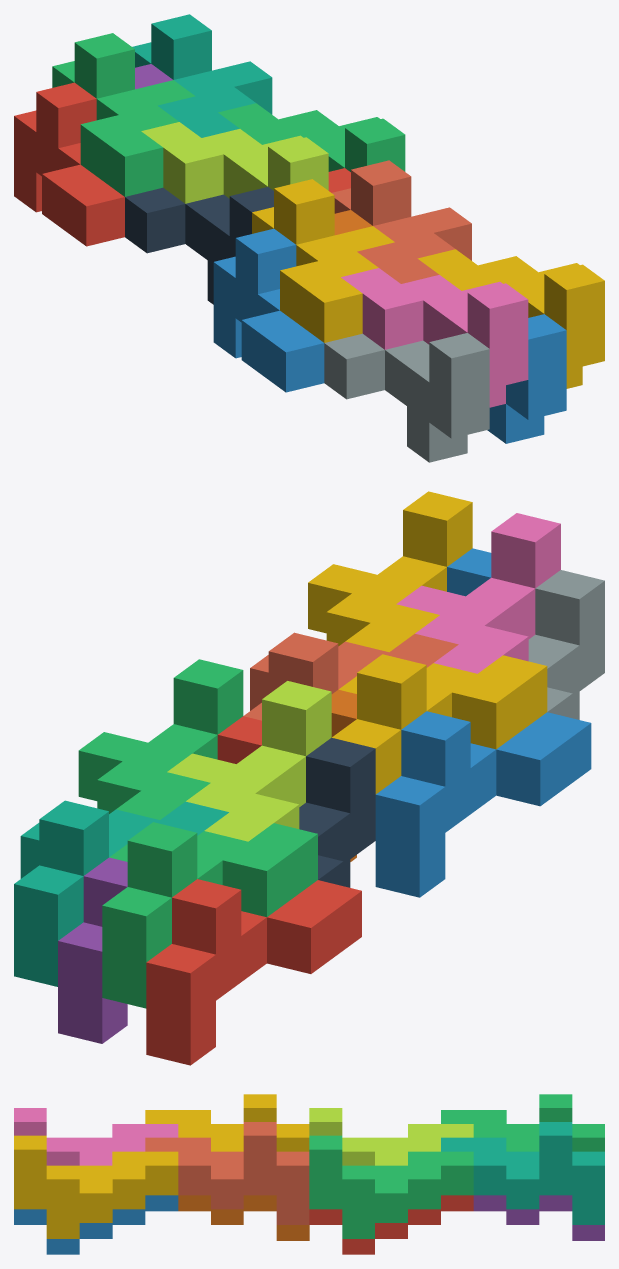
File: tiling.obj
3 views of the same model, one above another, from view 1: azimuth 30°, elevation 25°; view 2: azimuth 150°, elevation 25°; view 3: azimuth 270°, elevation 25° (orthographic). The views are drawn at different scales.
Parts seen in each view (by area): view 1: copy_2_domain_2, copy_2_domain_4, copy_1_domain_3, copy_1_domain_4, copy_1_domain_2, copy_1_domain_1, copy_2_domain_3, copy_2_domain_8, copy_1_domain_7, copy_1_domain_8, copy_2_domain_1, copy_2_domain_7 (+3 smaller); view 2: copy_1_domain_2, copy_1_domain_1, copy_1_domain_3, copy_1_domain_4, copy_1_domain_7, copy_2_domain_7, copy_2_domain_8, copy_2_domain_4, copy_2_domain_3, copy_2_domain_1, copy_2_domain_2, copy_1_domain_5 (+4 smaller); view 3: copy_2_domain_8, copy_2_domain_7, copy_1_domain_8, copy_1_domain_7, copy_2_domain_4, copy_2_domain_3, copy_1_domain_3, copy_1_domain_4, copy_2_domain_6, copy_2_domain_5, copy_1_domain_5, copy_1_domain_6.
Boxes of the visible parts, left/top/right/bottom form: copy_2_domain_2: left=324, top=333, right=489, bottom=462; copy_2_domain_4: left=341, top=268, right=528, bottom=407; copy_1_domain_3: left=52, top=33, right=195, bottom=196; copy_1_domain_4: left=252, top=179, right=394, bottom=342; copy_1_domain_2: left=213, top=228, right=324, bottom=392; copy_1_domain_1: left=14, top=82, right=124, bottom=246; copy_2_domain_3: left=141, top=122, right=328, bottom=203; copy_2_domain_8: left=417, top=249, right=604, bottom=388; copy_1_domain_7: left=132, top=14, right=272, bottom=137; copy_1_domain_8: left=332, top=160, right=471, bottom=283; copy_2_domain_1: left=125, top=187, right=273, bottom=304; copy_2_domain_7: left=218, top=103, right=405, bottom=171; copy_1_domain_2: left=375, top=711, right=591, bottom=897; copy_1_domain_1: left=146, top=879, right=361, bottom=1065; copy_1_domain_3: left=102, top=822, right=317, bottom=1008; copy_1_domain_4: left=332, top=654, right=547, bottom=794; copy_1_domain_7: left=14, top=800, right=228, bottom=986; copy_2_domain_7: left=78, top=659, right=243, bottom=819; copy_2_domain_8: left=308, top=491, right=472, bottom=652; copy_2_domain_4: left=396, top=513, right=560, bottom=673; copy_2_domain_3: left=167, top=681, right=331, bottom=841; copy_2_domain_1: left=299, top=737, right=375, bottom=887; copy_2_domain_2: left=528, top=570, right=604, bottom=719; copy_1_domain_5: left=58, top=857, right=127, bottom=1043; copy_2_domain_8: left=14, top=1135, right=178, bottom=1238; copy_2_domain_7: left=309, top=1135, right=473, bottom=1238; copy_1_domain_8: left=145, top=1122, right=309, bottom=1224; copy_1_domain_7: left=441, top=1122, right=604, bottom=1224; copy_2_domain_4: left=14, top=1108, right=178, bottom=1165; copy_2_domain_3: left=309, top=1108, right=473, bottom=1165; copy_1_domain_3: left=441, top=1094, right=604, bottom=1151; copy_1_domain_4: left=145, top=1094, right=309, bottom=1151; copy_2_domain_6: left=14, top=1195, right=178, bottom=1254; copy_2_domain_5: left=309, top=1195, right=473, bottom=1254; copy_1_domain_5: left=473, top=1195, right=604, bottom=1240; copy_1_domain_6: left=178, top=1195, right=309, bottom=1240.
Size of the model in its own units: 7 by 4 by 18.
